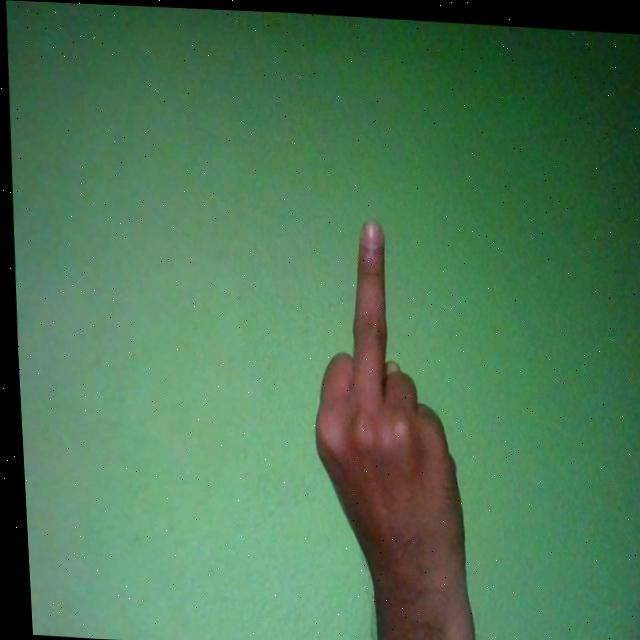Middle Finger: (296, 214, 466, 629)
